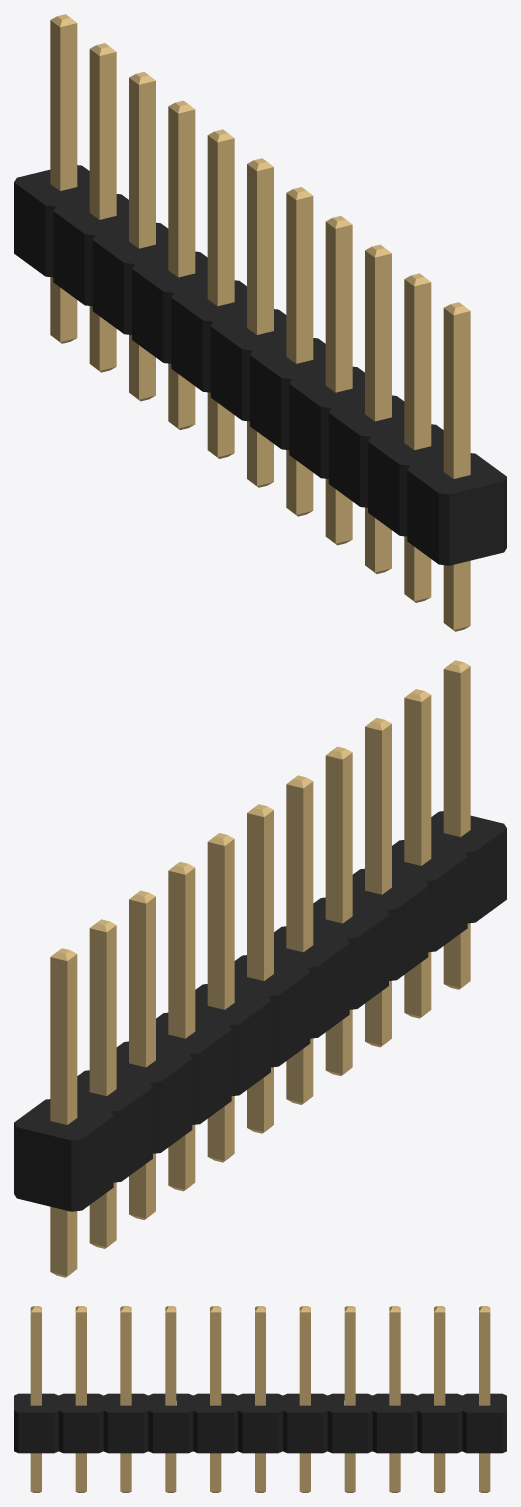
Rendered from kc-pinheader_1x11_p2.54mm_vertical.glb.
The picture shows the model from 3 angles, top to bottom: view 1: azimuth 30°, elevation 25°; view 2: azimuth 150°, elevation 25°; view 3: azimuth 270°, elevation 25°; orthographic projection. The views are drawn at different scales.
Parts seen in each view (by area): view 1: 0.75_0.5_0.25_0.9, 0_0_0_0; view 2: 0.75_0.5_0.25_0.9, 0_0_0_0; view 3: 0_0_0_0, 0.75_0.5_0.25_0.9.
Part boxes in pixels (bbox=[...]): 0.75_0.5_0.25_0.9: bbox=[50, 14, 470, 631]; 0_0_0_0: bbox=[14, 165, 506, 565]; 0.75_0.5_0.25_0.9: bbox=[50, 660, 470, 1277]; 0_0_0_0: bbox=[14, 811, 506, 1211]; 0_0_0_0: bbox=[14, 1393, 506, 1453]; 0.75_0.5_0.25_0.9: bbox=[30, 1306, 490, 1492].
Size of the model in its own units: 0.2541 by 1.15 by 2.79.
